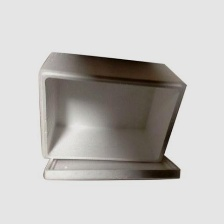foam_box: (29, 49, 193, 189)
